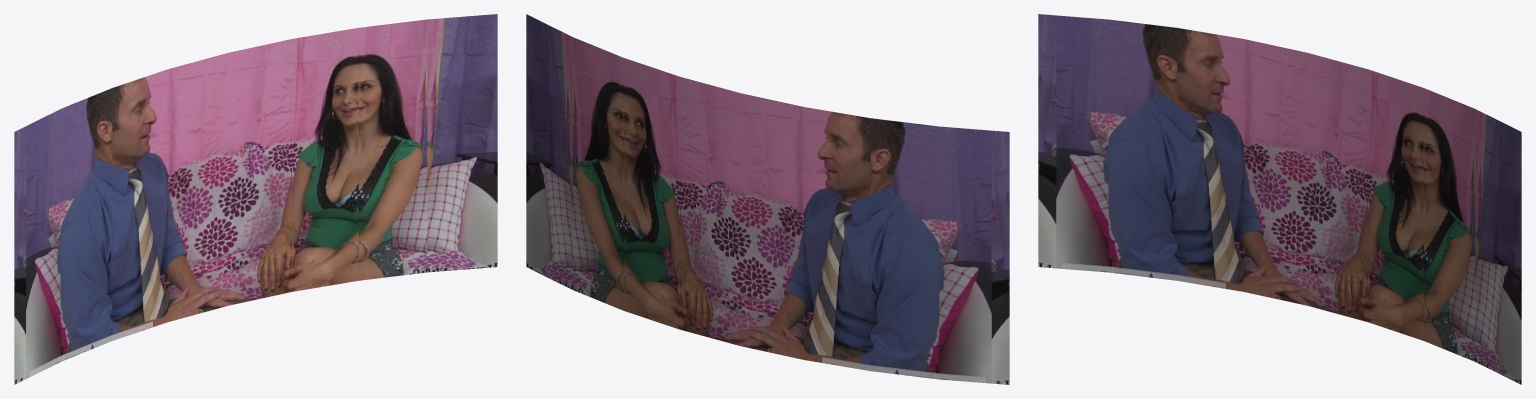
The model's file is thumbnail.fbx.
3 views of the same model, side by side, from view 1: azimuth 30°, elevation 25°; view 2: azimuth 150°, elevation 25°; view 3: azimuth 330°, elevation 25° (orthographic).
Visible parts, largest first — view 1: Component_1_1; view 2: Component_1_1; view 3: Component_1_1.
Boxes of the visible parts, bbox=[...] form: Component_1_1: bbox=[14, 14, 497, 384]; Component_1_1: bbox=[526, 14, 1009, 384]; Component_1_1: bbox=[1038, 14, 1521, 384].
Bounding box in the file's own units: 146 × 73 × 14.41.
